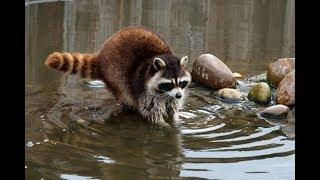raccoon: (43, 23, 191, 132)
